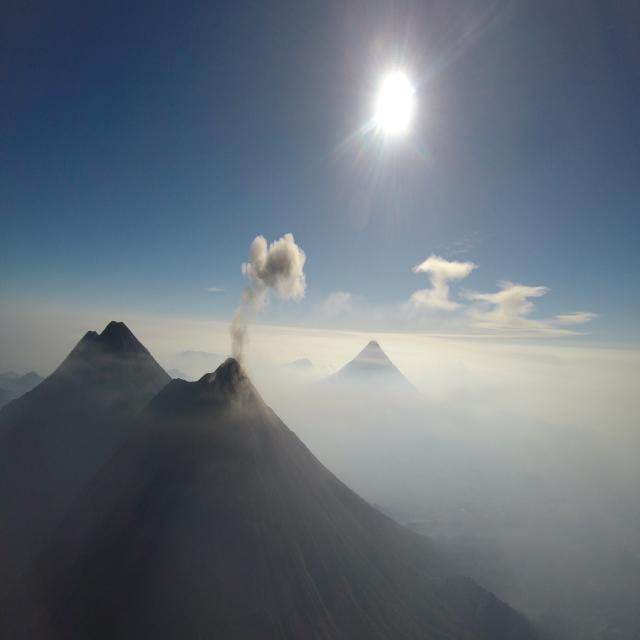Plume: (227, 226, 309, 362)
Summit: (150, 351, 279, 418)
